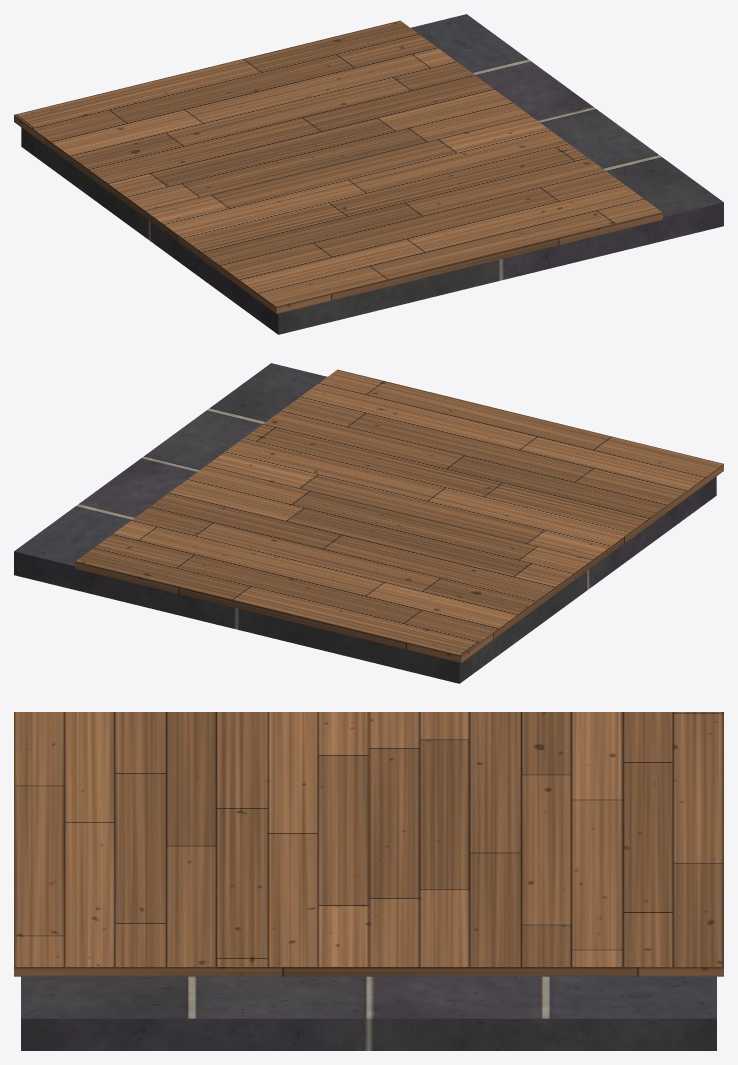
File: floor_floor_g_e0100.glb
3 views of the same model, one above another, from view 1: azimuth 30°, elevation 25°; view 2: azimuth 150°, elevation 25°; view 3: azimuth 270°, elevation 25° (orthographic). The views are drawn at different scales.
Visible parts, largest first — view 1: floor_floor_g_e0100_floor, floor_floor_g_e0100_plinth; view 2: floor_floor_g_e0100_floor, floor_floor_g_e0100_plinth; view 3: floor_floor_g_e0100_floor, floor_floor_g_e0100_plinth.
Part boxes in pixels (<box>): floor_floor_g_e0100_floor: <box>14,20,662,313</box>; floor_floor_g_e0100_plinth: <box>21,14,723,334</box>; floor_floor_g_e0100_floor: <box>75,369,723,662</box>; floor_floor_g_e0100_plinth: <box>14,363,716,683</box>; floor_floor_g_e0100_floor: <box>14,712,723,976</box>; floor_floor_g_e0100_plinth: <box>21,976,716,1050</box>.
Bounding box in the file's own units: 1.98 × 0.13 × 2.
2 materials, 2 textured.
